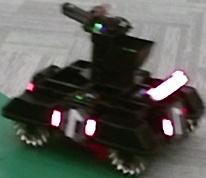armor_1: (51, 110, 96, 137)
back_1: (168, 102, 188, 138)
left_1: (60, 108, 88, 143)
light: (147, 69, 189, 102)
